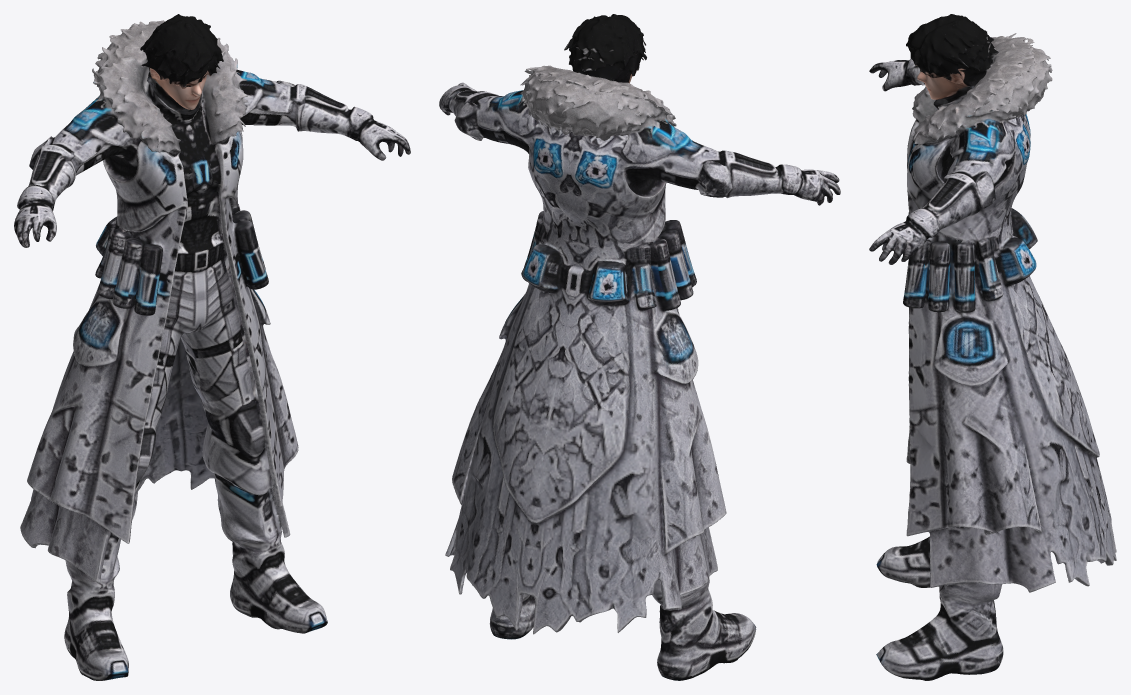
File: kael_n7.glb
3 views of the same model, side by side, from view 1: azimuth 30°, elevation 25°; view 2: azimuth 150°, elevation 25°; view 3: azimuth 270°, elevation 25° (orthographic). The views are drawn at different scales.
Size of the model in its own units: 1.24 by 1.9 by 0.6964.
Materials: 1 (1 with a texture image).
